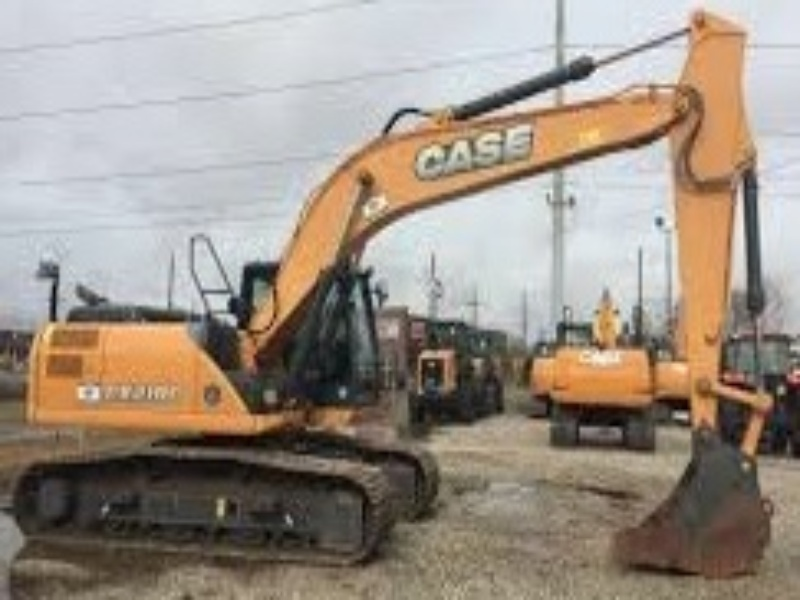wajueji: (11, 168, 526, 598)
